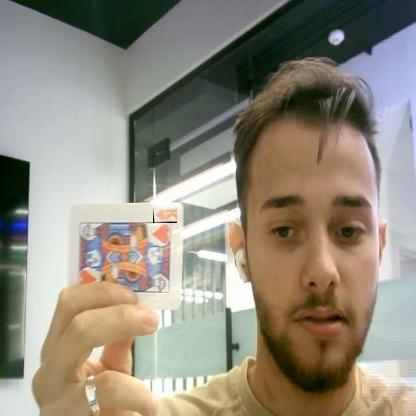KH: (153, 207, 177, 223)
